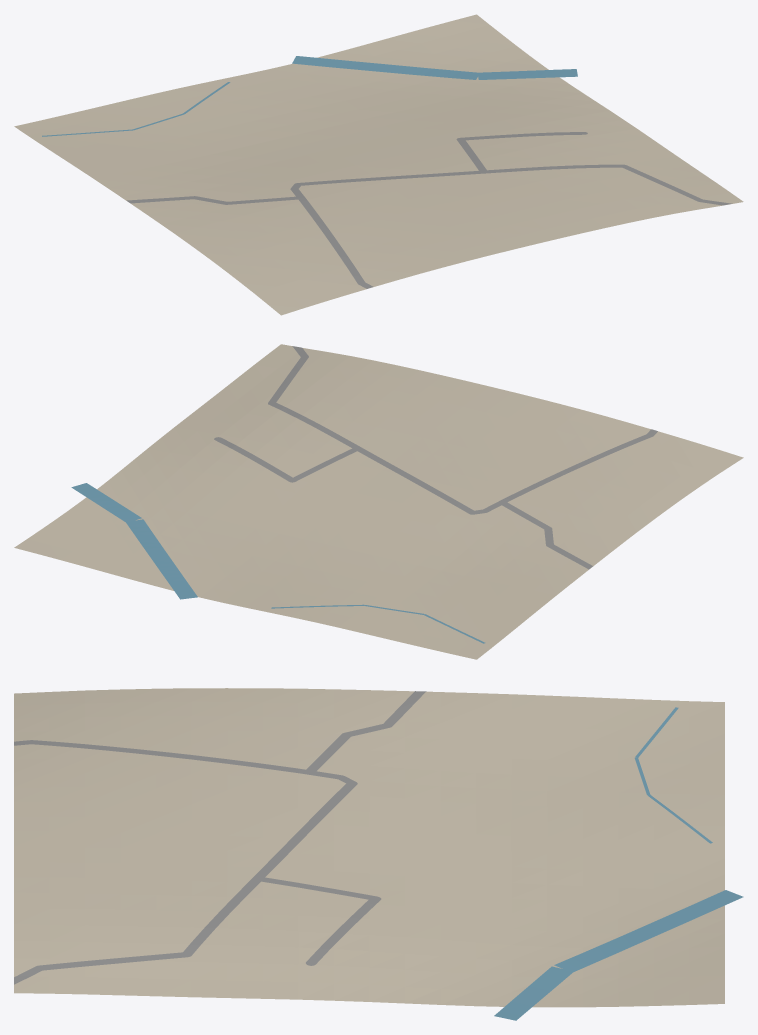
The model's file is bolak_-17_9.glb.
3 renders of one model, top to bottom at view 1: azimuth 30°, elevation 25°; view 2: azimuth 150°, elevation 25°; view 3: azimuth 270°, elevation 25°, orthographic. The views are drawn at different scales.
Visible parts, largest first — view 1: Yer_Tuproq-col, Yol_Mahalla-col, Suv; view 2: Yer_Tuproq-col, Yol_Mahalla-col, Suv; view 3: Yer_Tuproq-col, Yol_Mahalla-col, Suv.
Boxes of the visible parts, <box> form: Yer_Tuproq-col: <box>14,14,743,315</box>; Yol_Mahalla-col: <box>126,132,732,288</box>; Suv: <box>42,56,577,136</box>; Yer_Tuproq-col: <box>14,344,743,659</box>; Yol_Mahalla-col: <box>214,346,657,569</box>; Suv: <box>71,483,485,643</box>; Yer_Tuproq-col: <box>14,688,724,1007</box>; Yol_Mahalla-col: <box>14,691,426,984</box>; Suv: <box>494,707,743,1020</box>.
Size of what is drawn, in the model's own units: 418 by 17.4 by 411.
